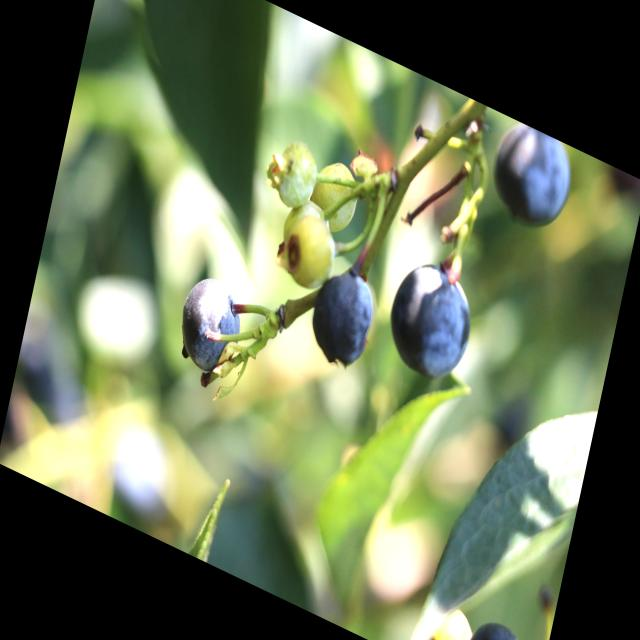blueberry: (379, 249, 480, 392), (482, 115, 580, 242), (172, 266, 252, 388), (303, 256, 383, 378), (456, 610, 535, 640)
blueberry-unripe: (272, 192, 340, 298), (265, 127, 325, 219), (306, 146, 365, 234)
